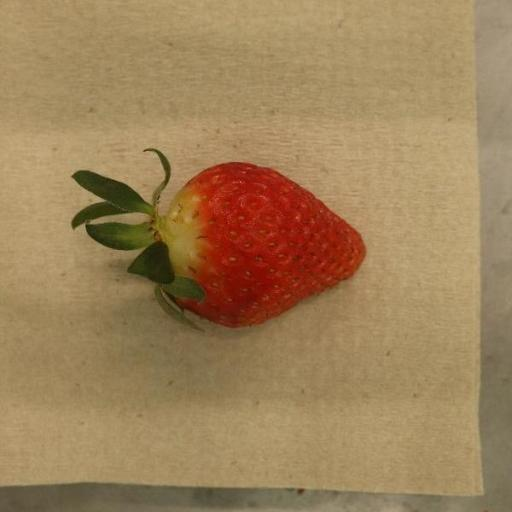Strawberry: (71, 162, 366, 329)
